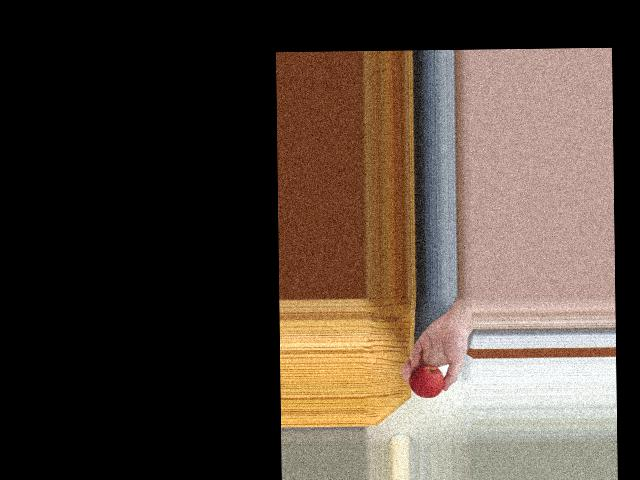apple: (409, 362, 445, 398)
